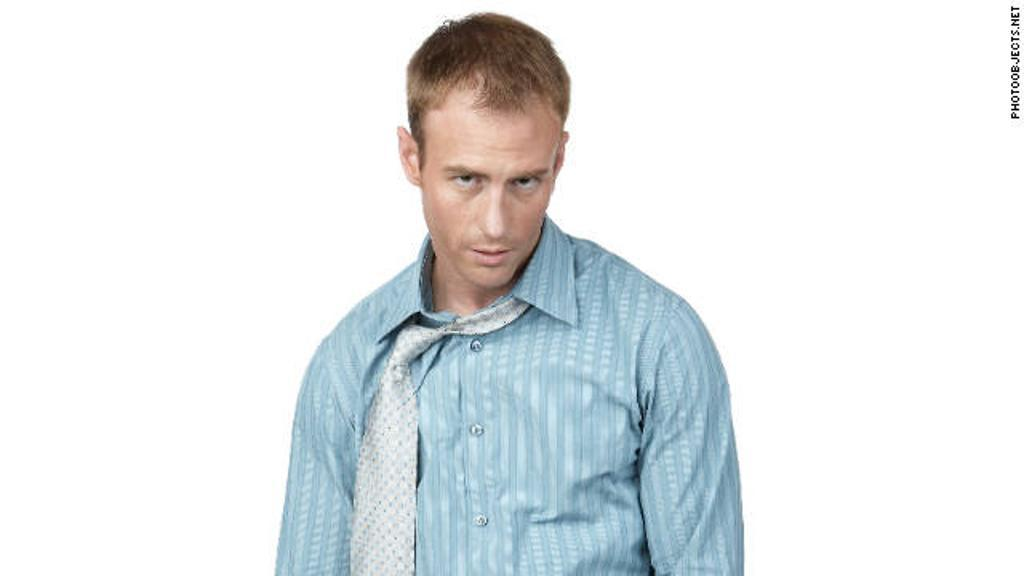face: (429, 97, 551, 277)
